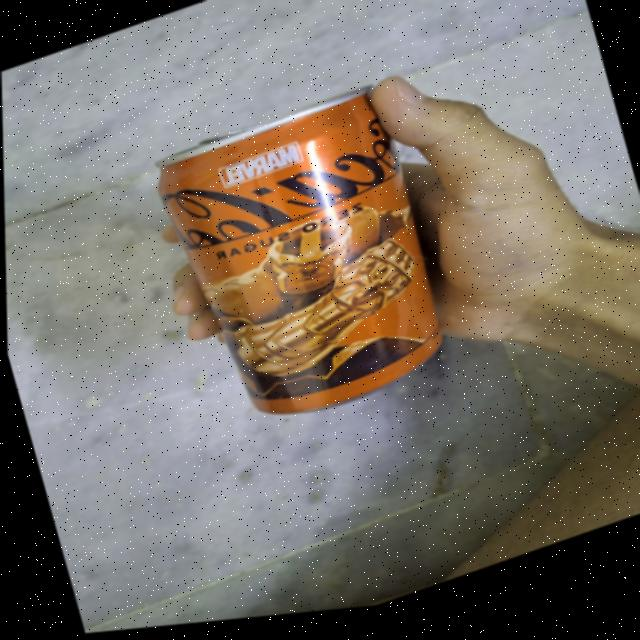Coca Cola Zero: (138, 88, 447, 447)
